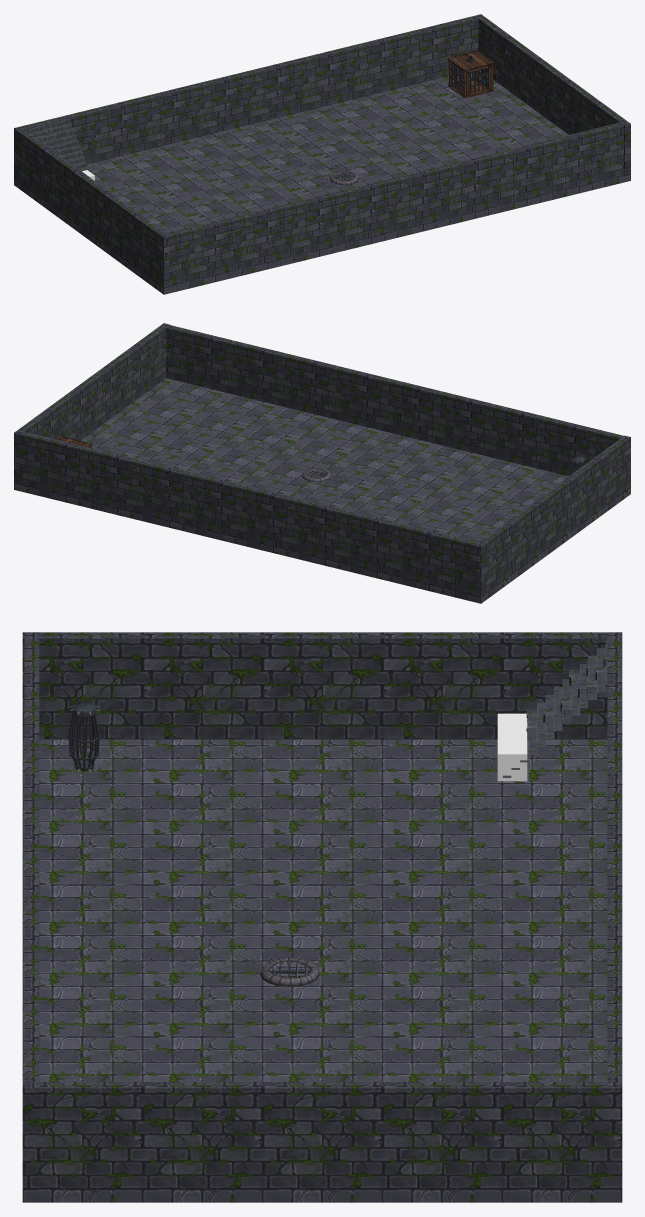
Rendered from lh_dungeon_01-v1.glb.
3 renders of one model, top to bottom at view 1: azimuth 30°, elevation 25°; view 2: azimuth 150°, elevation 25°; view 3: azimuth 270°, elevation 25°, orthographic. The views are drawn at different scales.
Parts seen in each view (by area): view 1: P_MOD_Wall_01_M_straight_med (×27), P_MOD_Floor_01_E_straight_med (×32), P_PROP_cage_dungeon_01, P_MOD_Stairs_01_E_straight_1, SM_PROP_cage_door_dungeon_01; view 2: P_MOD_Wall_01_M_straight_med (×28), P_MOD_Floor_01_E_straight_med (×25); view 3: P_MOD_Floor_01_E_straight_med (×40), P_MOD_Wall_01_M_straight_med (×27), P_MOD_Stairs_01_E_straight_1, teleport_lh_town trigger, P_PROP_cage_dungeon_02, P_PROP_platform_grid_dungeon.
Boxes of the visible parts, x1,y1,x2,y2 form: P_MOD_Wall_01_M_straight_med (×27): [14, 14, 630, 287]; P_MOD_Floor_01_E_straight_med (×32): [87, 80, 630, 294]; P_PROP_cage_dungeon_01: [447, 50, 494, 98]; P_MOD_Stairs_01_E_straight_1: [25, 119, 89, 171]; SM_PROP_cage_door_dungeon_01: [464, 65, 491, 96]; P_MOD_Wall_01_M_straight_med (×28): [14, 323, 630, 596]; P_MOD_Floor_01_E_straight_med (×25): [80, 378, 568, 603]; P_MOD_Floor_01_E_straight_med (×40): [22, 739, 622, 1202]; P_MOD_Wall_01_M_straight_med (×27): [22, 632, 622, 1188]; P_MOD_Stairs_01_E_straight_1: [502, 640, 607, 777]; teleport_lh_town trigger: [497, 713, 527, 781]; P_PROP_cage_dungeon_02: [67, 701, 100, 771]; P_PROP_platform_grid_dungeon: [260, 957, 319, 986].
Size of the model in its own units: 36 by 4.2 by 20.
7 materials, 6 textured.
